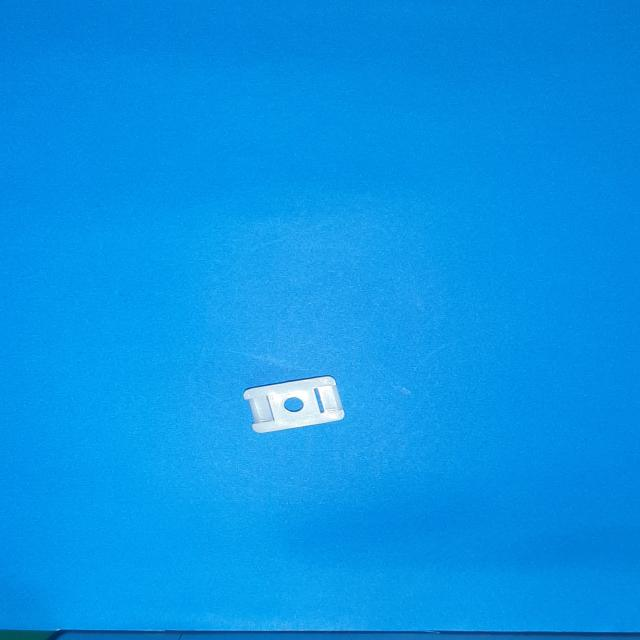false_1: (243, 376, 345, 432)
